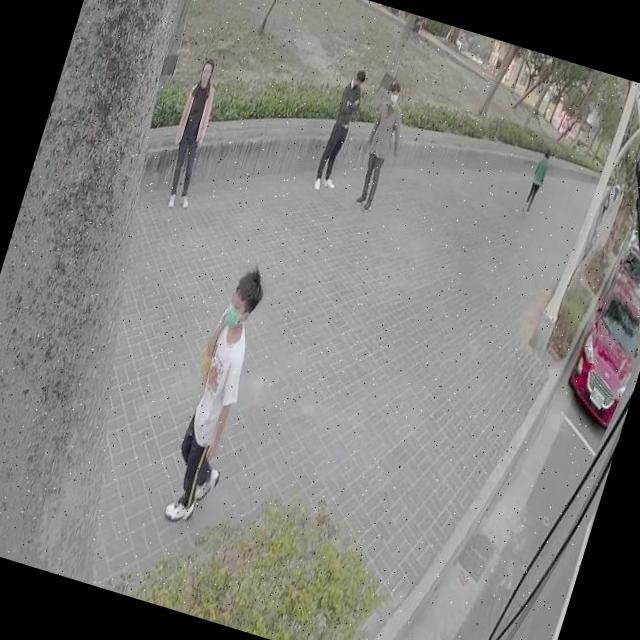person: (151, 257, 280, 530), (155, 56, 225, 207), (349, 78, 414, 212), (312, 64, 370, 191), (520, 146, 552, 214)
